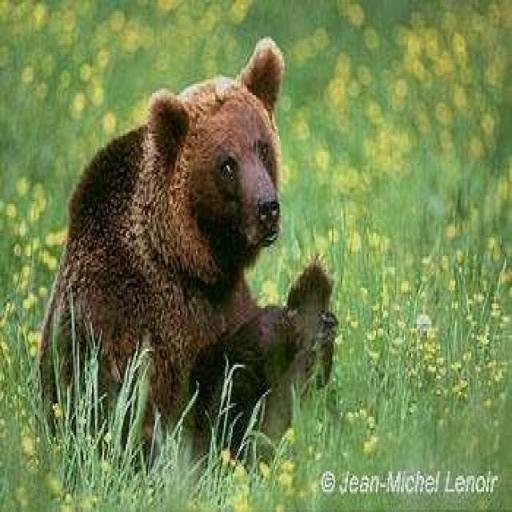Bear: (36, 34, 338, 476)
